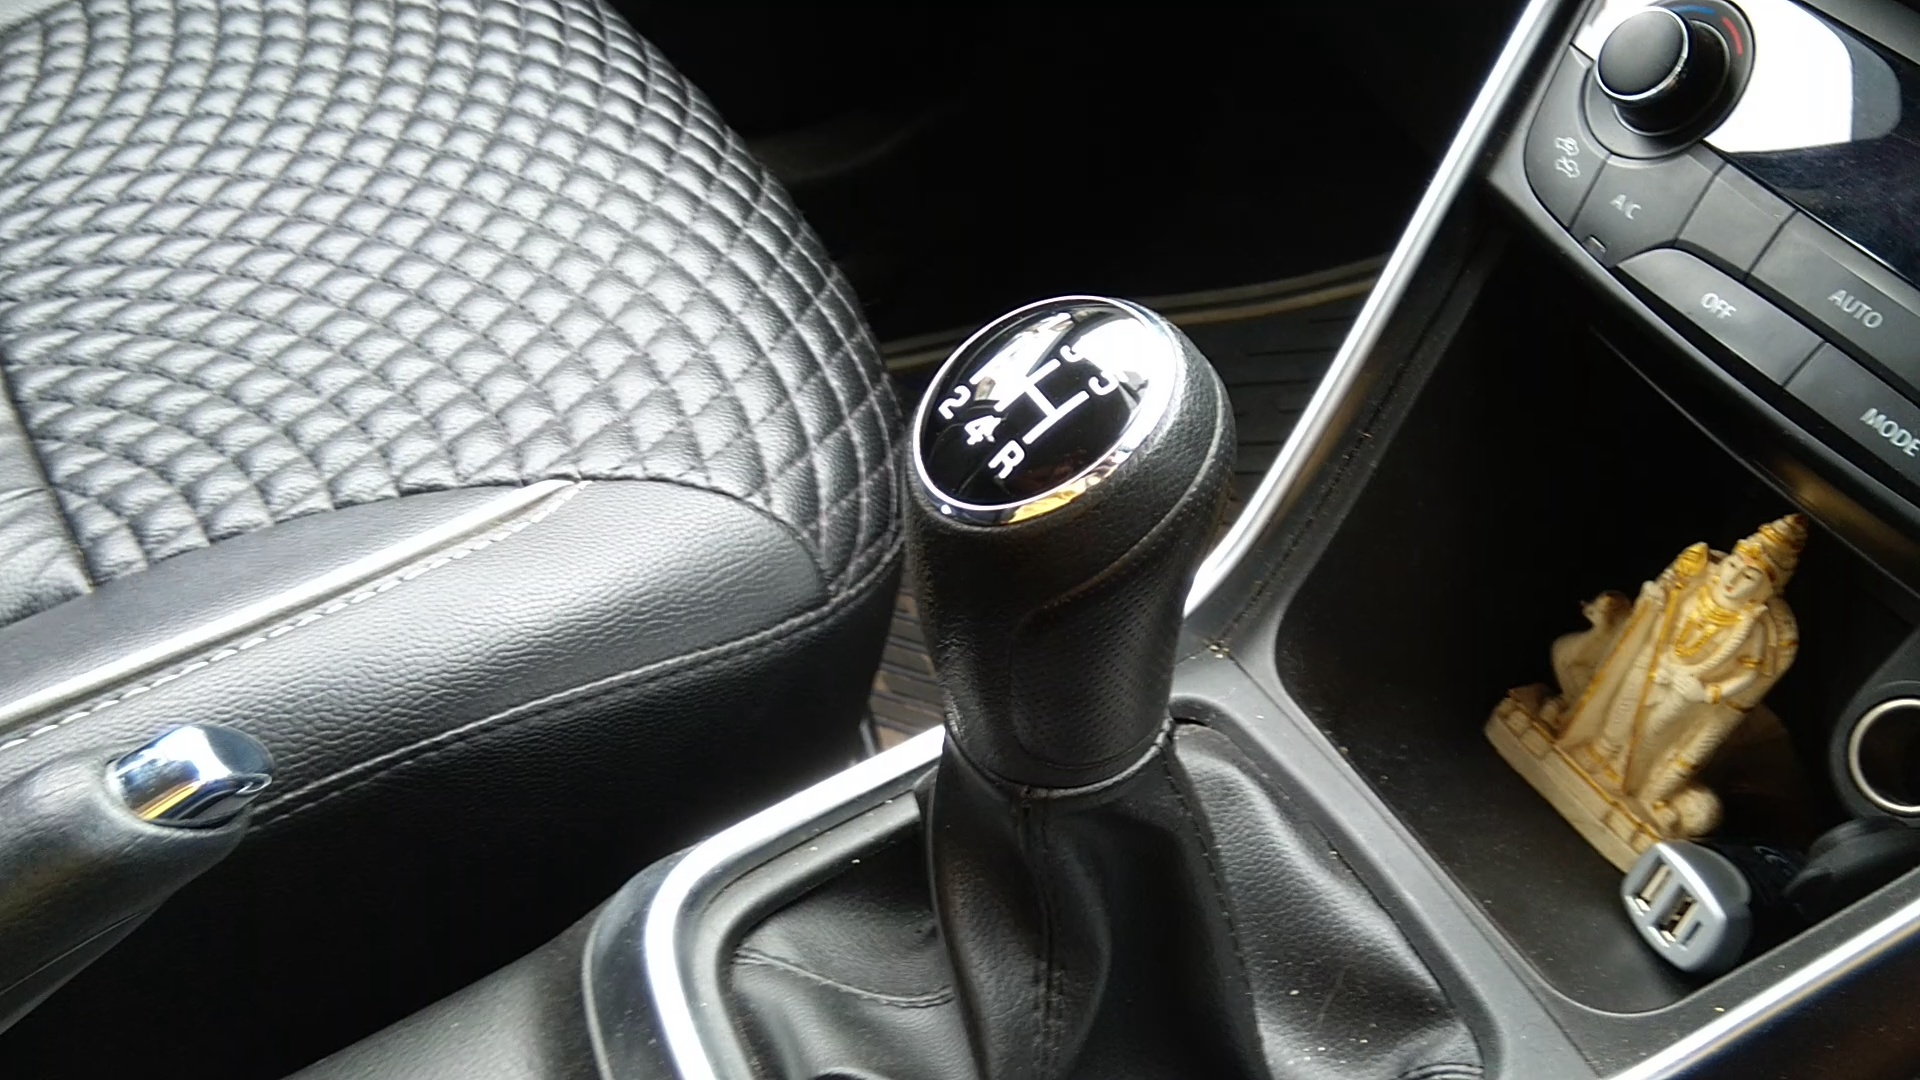manual_gear: (895, 260, 1279, 851)
